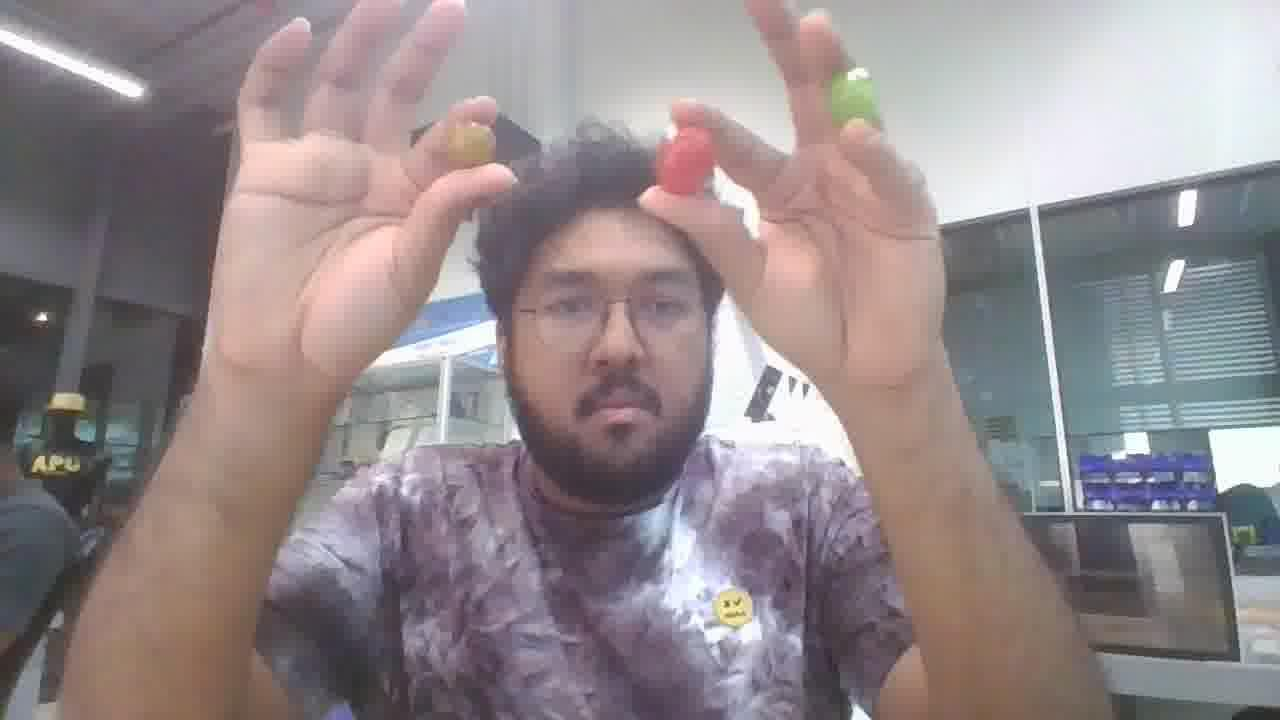green_cherry_tomato: (829, 67, 879, 125)
red_cherry_tomato: (655, 128, 714, 194)
yellow_cherry_tomato: (449, 123, 495, 166)
